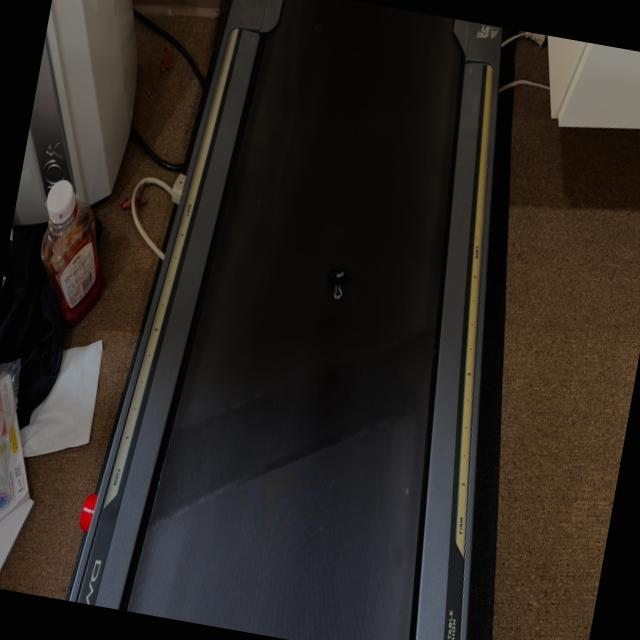Trash: (322, 259, 363, 320)
